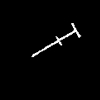double_crochet: (32, 23, 79, 56)
